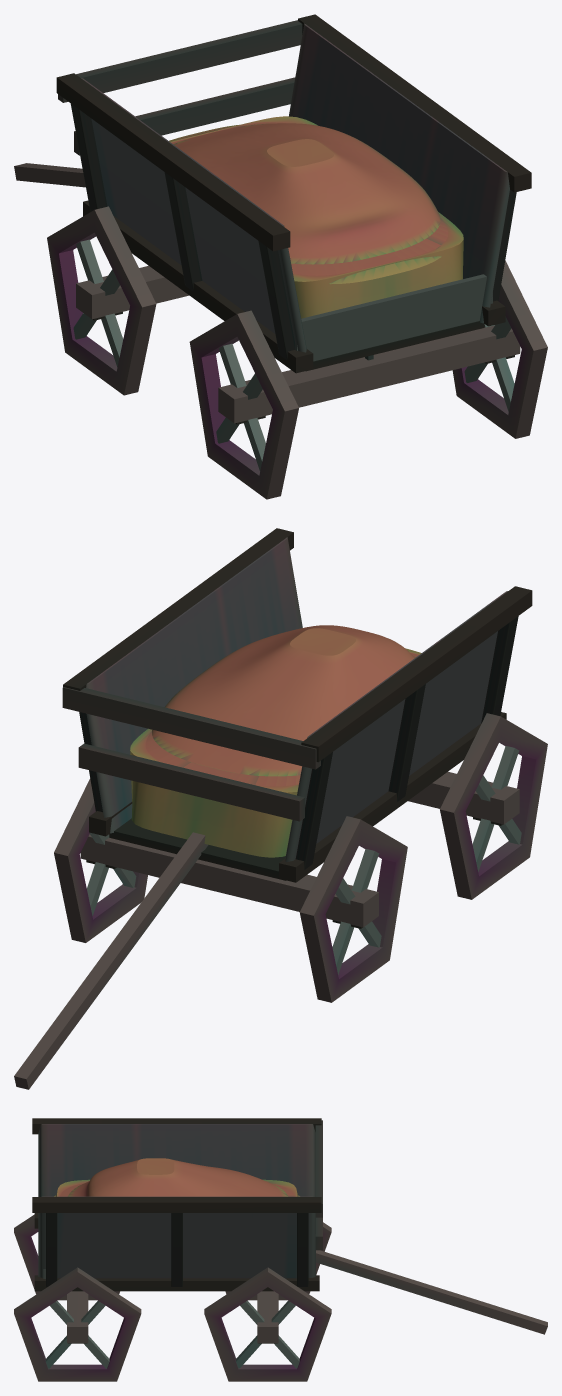
The picture shows the model from 3 angles, top to bottom: view 1: azimuth 30°, elevation 25°; view 2: azimuth 150°, elevation 25°; view 3: azimuth 270°, elevation 25°; orthographic projection. The views are drawn at different scales.
Parts seen in each view (by area): view 1: crest, panel, panel.001, rim.003, rim.001, axle.001, end_board, load_base, top_rail.001, rim, upper, top_rail (+14 smaller); view 2: crest, panel, panel.001, load_base, rim.001, rim.003, axle.002, top_rail.001, upper, drawbar, lower, rim.002 (+9 smaller); view 3: panel, panel.001, crest, rim, rim.002, top_rail, drawbar, bottom_rail, top_rail.001, rim.001, axle.001, axle.002 (+9 smaller).
Part boxes in pixels (bbox=[...]): crest: bbox=[169, 123, 441, 284]; panel: bbox=[288, 23, 509, 323]; panel.001: bbox=[81, 78, 306, 352]; rim.003: bbox=[47, 206, 156, 395]; rim.001: bbox=[189, 310, 298, 499]; axle.001: bbox=[218, 325, 520, 423]; end_board: bbox=[295, 274, 492, 361]; load_base: bbox=[170, 116, 463, 318]; top_rail.001: bbox=[56, 73, 290, 251]; rim: bbox=[452, 260, 547, 438]; upper: bbox=[58, 20, 302, 102]; top_rail: bbox=[298, 14, 531, 192]; crest: bbox=[152, 625, 421, 776]; panel: bbox=[86, 537, 302, 833]; panel.001: bbox=[285, 591, 507, 862]; load_base: bbox=[130, 651, 419, 857]; rim.001: bbox=[440, 713, 547, 899]; rim.003: bbox=[299, 816, 407, 1002]; axle.002: bbox=[80, 834, 378, 927]; top_rail.001: bbox=[301, 586, 532, 762]; upper: bbox=[62, 687, 320, 769]; drawbar: bbox=[14, 832, 208, 1089]; lower: bbox=[78, 743, 304, 821]; rim.002: bbox=[54, 778, 147, 942]; panel: bbox=[38, 1196, 315, 1278]; panel.001: bbox=[38, 1124, 315, 1196]; crest: bbox=[54, 1158, 299, 1196]; rim: bbox=[14, 1267, 141, 1381]; rim.002: bbox=[204, 1267, 331, 1381]; top_rail: bbox=[32, 1197, 321, 1212]; drawbar: bbox=[316, 1250, 547, 1334]; bottom_rail: bbox=[34, 1275, 319, 1291]; top_rail.001: bbox=[32, 1118, 321, 1134]; rim.001: bbox=[14, 1214, 119, 1300]; axle.001: bbox=[67, 1291, 88, 1343]; axle.002: bbox=[257, 1291, 278, 1343].
Bounding box in the file's own units: 1.24 × 1.11 × 3.
